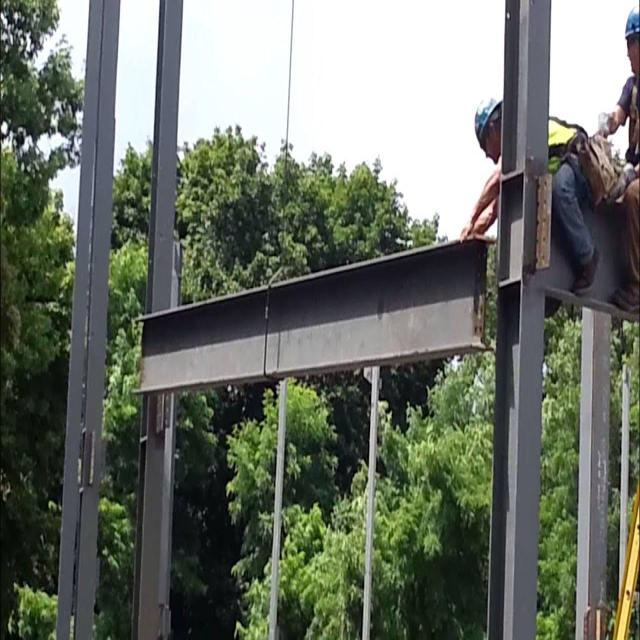steel beam: (133, 234, 496, 395)
